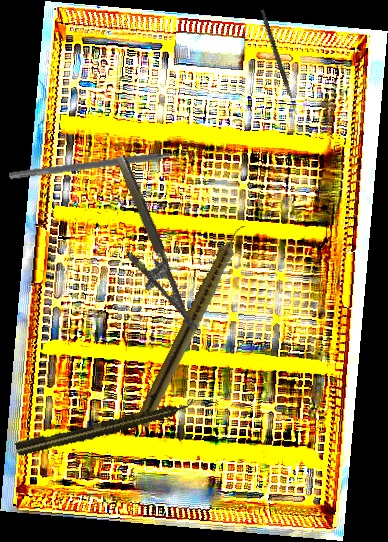Handpiece: (133, 219, 251, 431), (14, 397, 197, 458)
Hook Surgical: (259, 9, 300, 116)
Needle Holder: (91, 153, 199, 344)
Spatula Surgical: (8, 146, 197, 188)
